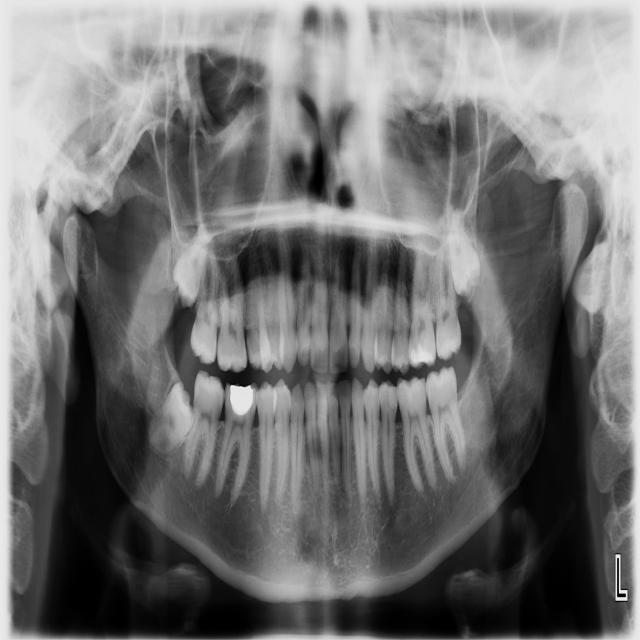mandibula: (61, 177, 588, 600)
